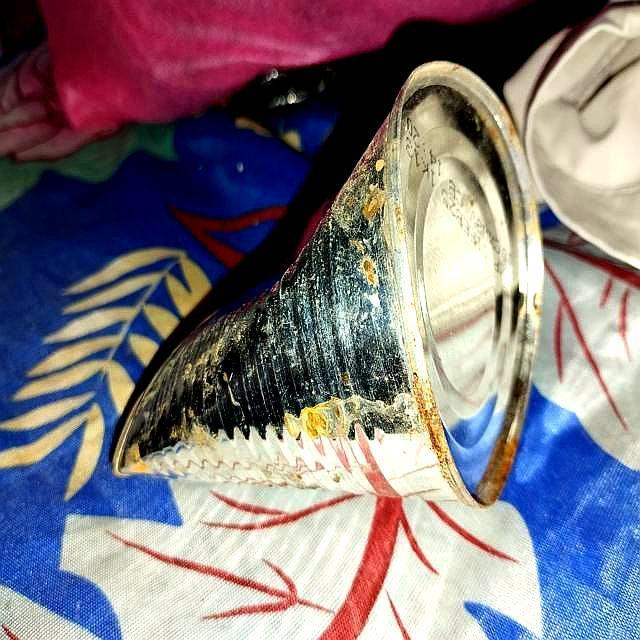Non-biodegradable: (109, 59, 547, 510)
